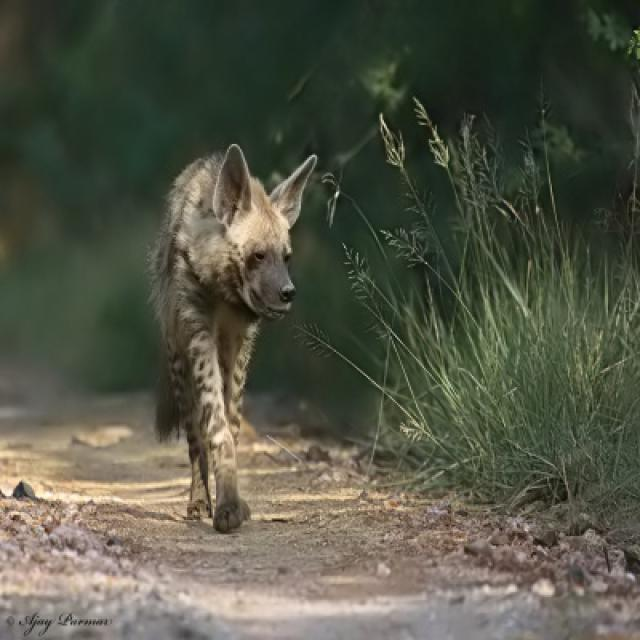hyena: (149, 144, 318, 536)
